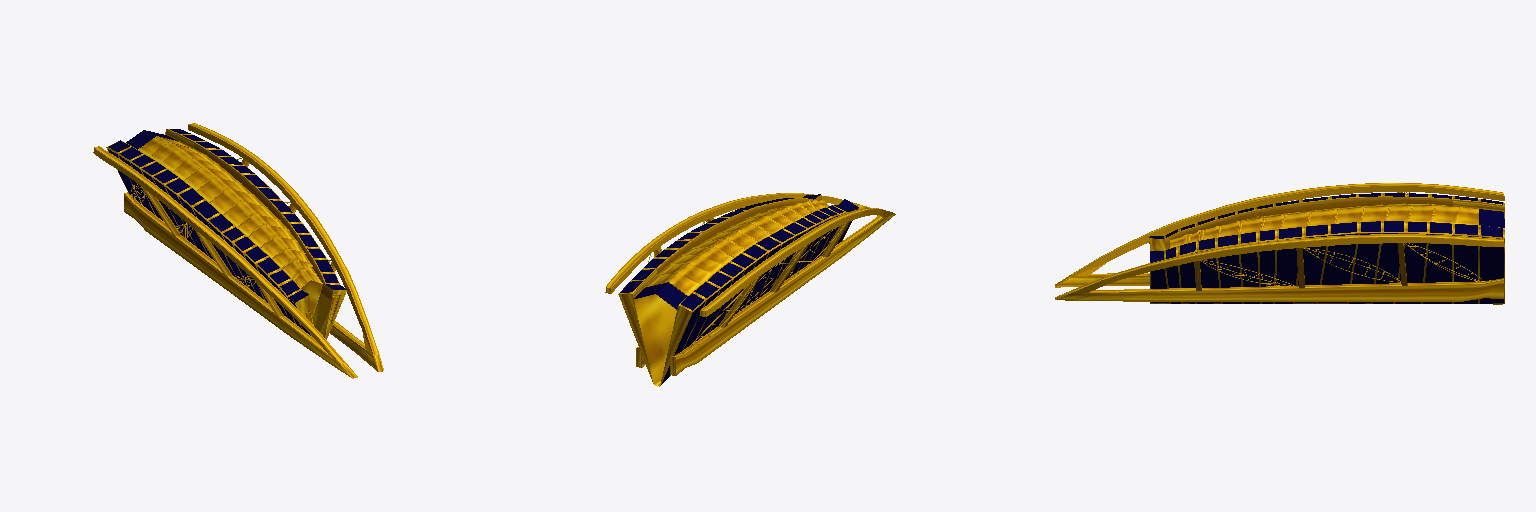
3 renders of one model, left to right at view 1: azimuth 30°, elevation 25°; view 2: azimuth 150°, elevation 25°; view 3: azimuth 270°, elevation 25°, orthographic.
Parts seen in each view (by area): view 1: Tower; view 2: Tower; view 3: Tower.
Part boxes in pixels (x1,y1,x2,y2): Tower: (93,123,383,378); Tower: (605,193,895,386); Tower: (1055,183,1504,304).
Bounding box in the file's own units: 24.97 × 21.44 × 86.98.
3 materials, 1 textured.